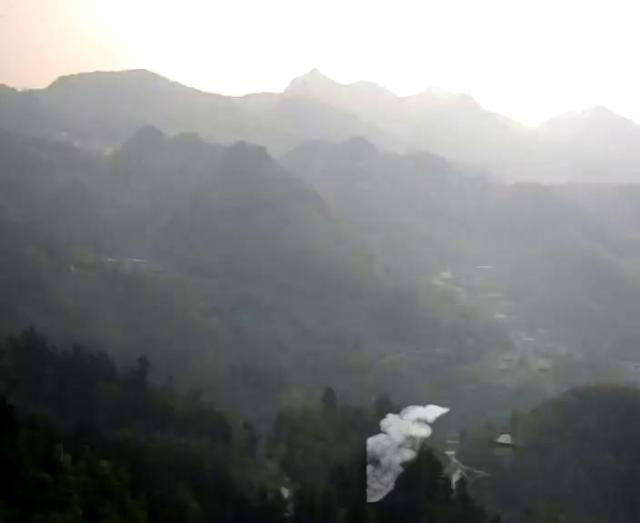smoke: (364, 404, 451, 505)
